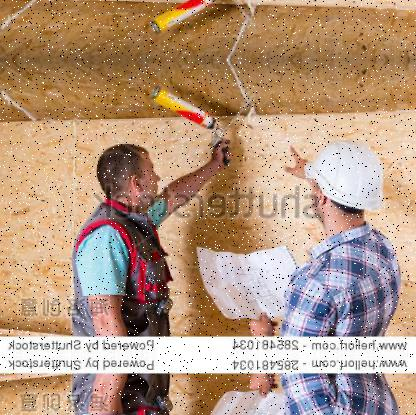helmet: (303, 137, 388, 233)
